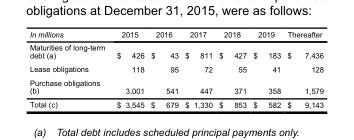table: (28, 29, 323, 108)
table column: (28, 29, 110, 108), (283, 29, 323, 108), (110, 29, 146, 108), (146, 29, 181, 108), (181, 29, 215, 108), (215, 29, 249, 108), (249, 29, 283, 108)
table column header: (28, 29, 323, 40)
table row: (28, 75, 323, 97), (28, 40, 323, 61), (28, 61, 323, 75), (28, 29, 323, 40), (28, 97, 323, 108)
